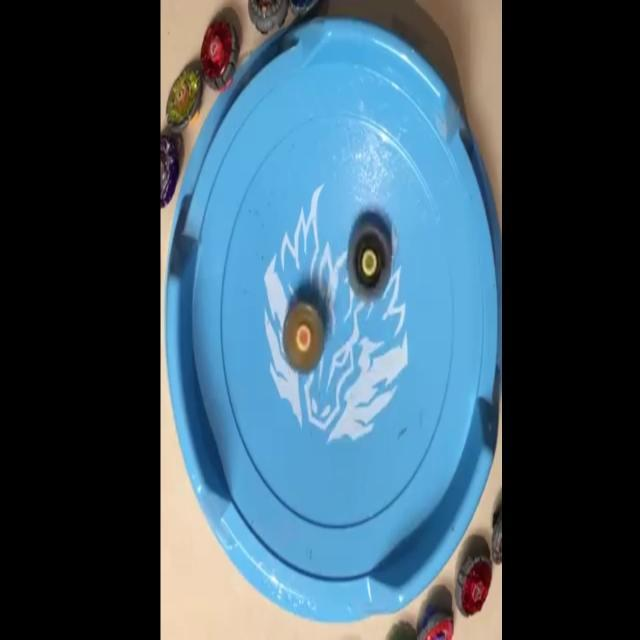Beyblade: (348, 224, 391, 300), (201, 19, 240, 95), (283, 304, 325, 372), (454, 553, 492, 618), (166, 66, 202, 134)
